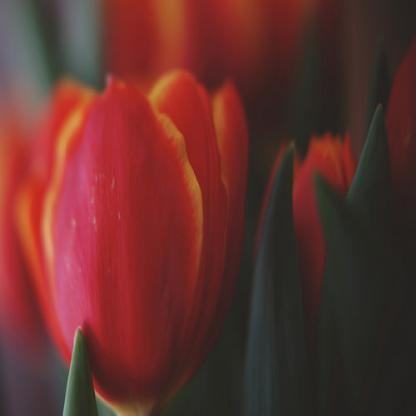TULIP: (35, 31, 264, 396)
